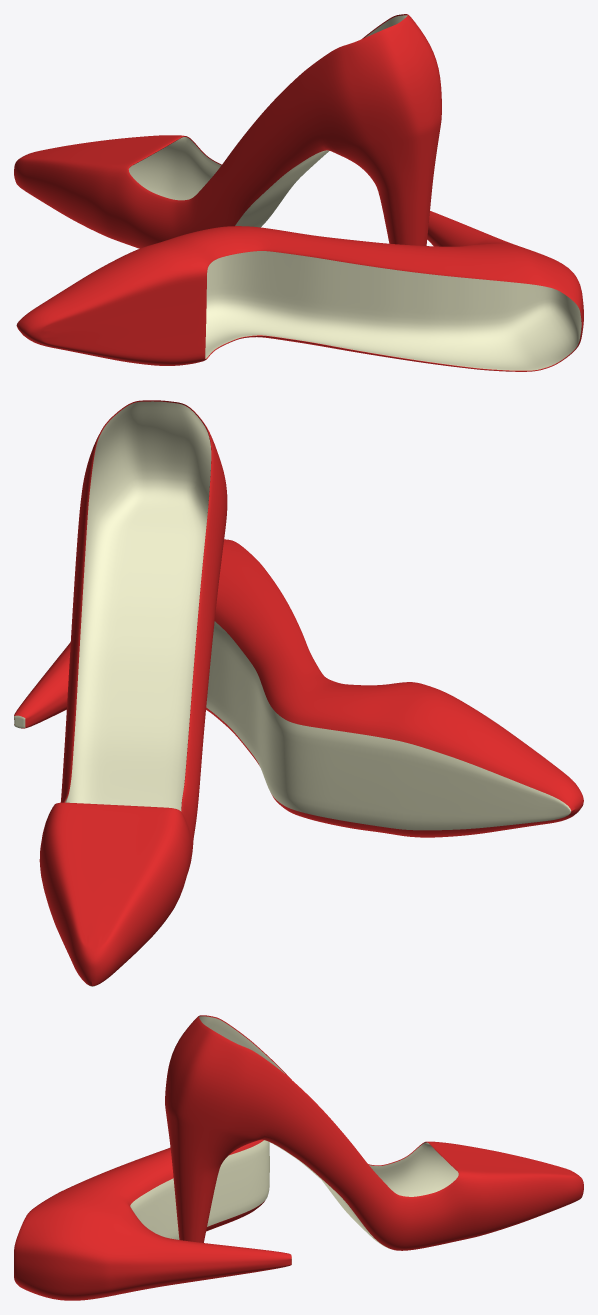
Rendered from HEELS.fbx.
3 renders of one model, top to bottom at view 1: azimuth 30°, elevation 25°; view 2: azimuth 150°, elevation 25°; view 3: azimuth 270°, elevation 25°, orthographic. The views are drawn at different scales.
Visible parts, largest first — view 1: Plane.009; view 2: Plane.009; view 3: Plane.009.
Boxes of the visible parts, box(x1,y1,x2,y2) form: Plane.009: box(14, 14, 583, 371); Plane.009: box(14, 400, 583, 986); Plane.009: box(14, 1015, 583, 1300).
Size of the model in its own units: 147 by 89.04 by 180.
